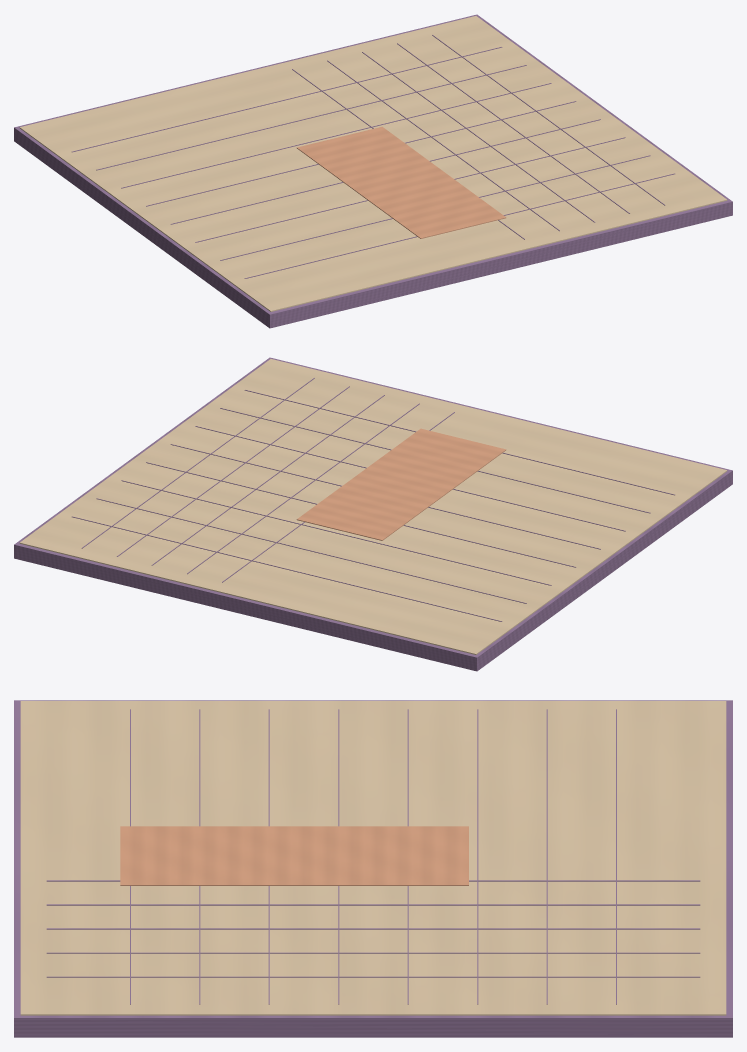
Rendered from atlas100-s081-a07.lod2.glb.
The picture shows the model from 3 angles, top to bottom: view 1: azimuth 30°, elevation 25°; view 2: azimuth 150°, elevation 25°; view 3: azimuth 270°, elevation 25°; orthographic projection. The views are drawn at different scales.
Parts seen in each view (by area): view 1: atlas100-s081-a07:part-001, atlas100-s081-a07:part-000, atlas100-s081-a07:part-021, atlas100-s081-a07:part-015, atlas100-s081-a07:part-013, atlas100-s081-a07:part-014, atlas100-s081-a07:part-019, atlas100-s081-a07:part-020, atlas100-s081-a07:part-016, atlas100-s081-a07:part-017, atlas100-s081-a07:part-018; view 2: atlas100-s081-a07:part-001, atlas100-s081-a07:part-000, atlas100-s081-a07:part-021, atlas100-s081-a07:part-014, atlas100-s081-a07:part-013, atlas100-s081-a07:part-015, atlas100-s081-a07:part-016, atlas100-s081-a07:part-017, atlas100-s081-a07:part-018, atlas100-s081-a07:part-020, atlas100-s081-a07:part-019; view 3: atlas100-s081-a07:part-001, atlas100-s081-a07:part-000, atlas100-s081-a07:part-021, atlas100-s081-a07:part-010, atlas100-s081-a07:part-009, atlas100-s081-a07:part-012, atlas100-s081-a07:part-011, atlas100-s081-a07:part-008, atlas100-s081-a07:part-014, atlas100-s081-a07:part-015.
Boxes of the visible parts, box(x1,y1,x2,y2) form: atlas100-s081-a07:part-001: box(19, 16, 727, 311); atlas100-s081-a07:part-000: box(14, 14, 732, 328); atlas100-s081-a07:part-021: box(297, 126, 506, 238); atlas100-s081-a07:part-015: box(121, 83, 551, 188); atlas100-s081-a07:part-013: box(72, 47, 502, 152); atlas100-s081-a07:part-014: box(96, 65, 526, 170); atlas100-s081-a07:part-019: box(220, 155, 650, 260); atlas100-s081-a07:part-020: box(244, 173, 674, 278); atlas100-s081-a07:part-016: box(146, 101, 576, 206); atlas100-s081-a07:part-017: box(170, 119, 600, 224); atlas100-s081-a07:part-018: box(195, 137, 625, 242); atlas100-s081-a07:part-001: box(19, 359, 727, 654); atlas100-s081-a07:part-000: box(14, 357, 732, 671); atlas100-s081-a07:part-021: box(296, 428, 506, 540); atlas100-s081-a07:part-014: box(96, 498, 526, 603); atlas100-s081-a07:part-013: box(72, 516, 502, 621); atlas100-s081-a07:part-015: box(121, 480, 551, 585); atlas100-s081-a07:part-016: box(146, 462, 576, 567); atlas100-s081-a07:part-017: box(170, 444, 600, 549); atlas100-s081-a07:part-018: box(195, 426, 625, 531); atlas100-s081-a07:part-020: box(244, 390, 674, 495); atlas100-s081-a07:part-019: box(220, 408, 650, 513); atlas100-s081-a07:part-001: box(20, 701, 726, 1015); atlas100-s081-a07:part-000: box(14, 700, 732, 1037); atlas100-s081-a07:part-021: box(120, 826, 468, 885); atlas100-s081-a07:part-010: box(46, 928, 700, 929); atlas100-s081-a07:part-009: box(46, 904, 700, 905); atlas100-s081-a07:part-012: box(46, 976, 700, 977); atlas100-s081-a07:part-011: box(46, 952, 700, 953); atlas100-s081-a07:part-008: box(46, 880, 700, 881); atlas100-s081-a07:part-014: box(546, 709, 547, 1004); atlas100-s081-a07:part-015: box(477, 709, 478, 1004).
Bounding box in the file's own units: 11.9 × 0.404 × 11.39.
3 materials, 3 textured.
